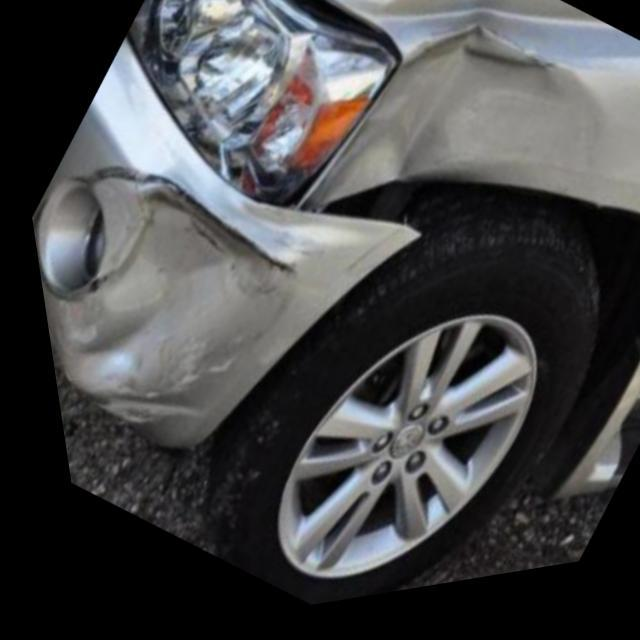dent: (26, 164, 407, 451), (311, 38, 592, 205)
lamp broken: (119, 0, 386, 216)
